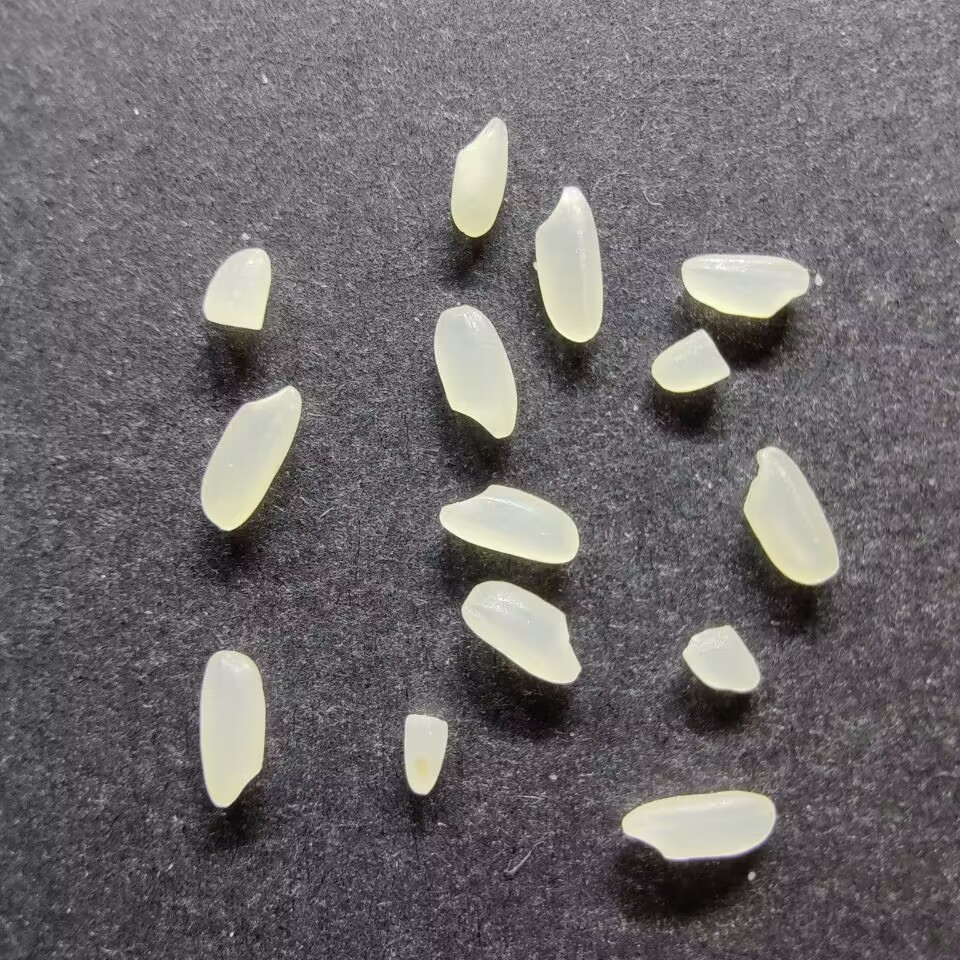broken: (202, 246, 272, 331), (648, 327, 733, 393), (682, 624, 761, 693), (400, 713, 451, 796)
rice: (198, 383, 303, 532), (742, 446, 840, 588), (459, 579, 583, 686), (437, 483, 579, 565), (433, 303, 518, 439), (619, 789, 777, 862), (532, 184, 604, 344), (197, 648, 267, 809), (679, 252, 810, 318), (448, 116, 510, 238)
